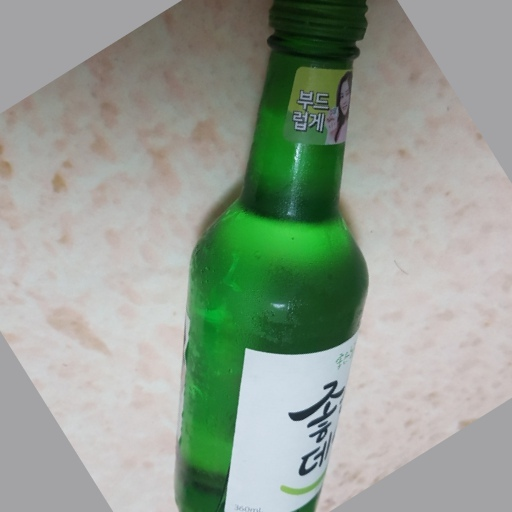Glass_0: (172, 1, 372, 512)
